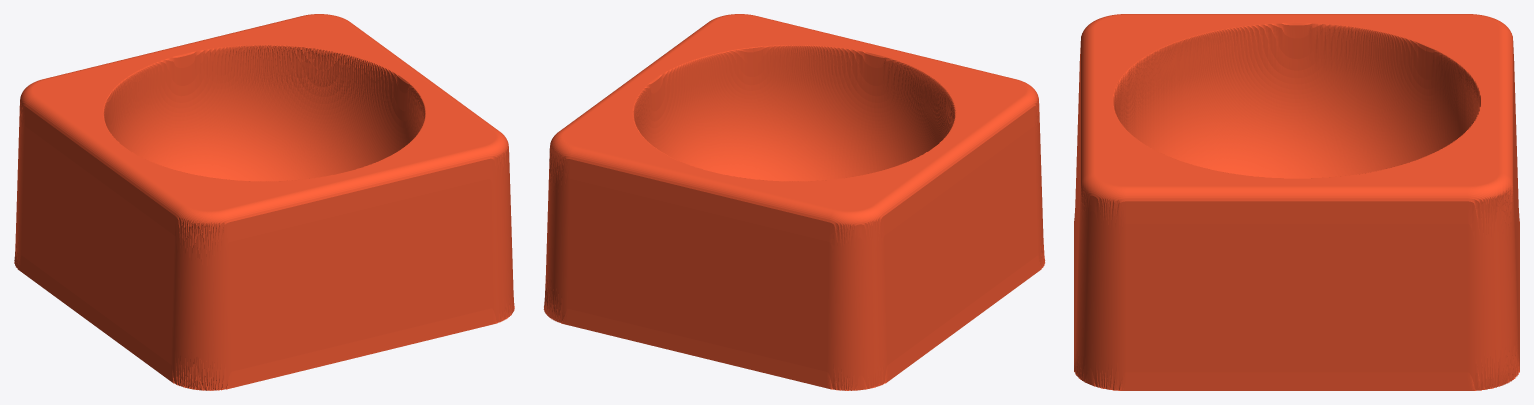
The model's file is mold.glb.
3 views of the same model, side by side, from view 1: azimuth 30°, elevation 25°; view 2: azimuth 150°, elevation 25°; view 3: azimuth 270°, elevation 25° (orthographic). The views are drawn at different scales.
Visible parts, largest first — view 1: geometry_0; view 2: geometry_0; view 3: geometry_0.
Boxes of the visible parts, box(x1,y1,x2,y2) form: geometry_0: box(14, 14, 514, 390); geometry_0: box(543, 14, 1045, 390); geometry_0: box(1074, 14, 1519, 390).
Bounding box in the file's own units: 0.0778 × 0.0377 × 0.0778.
